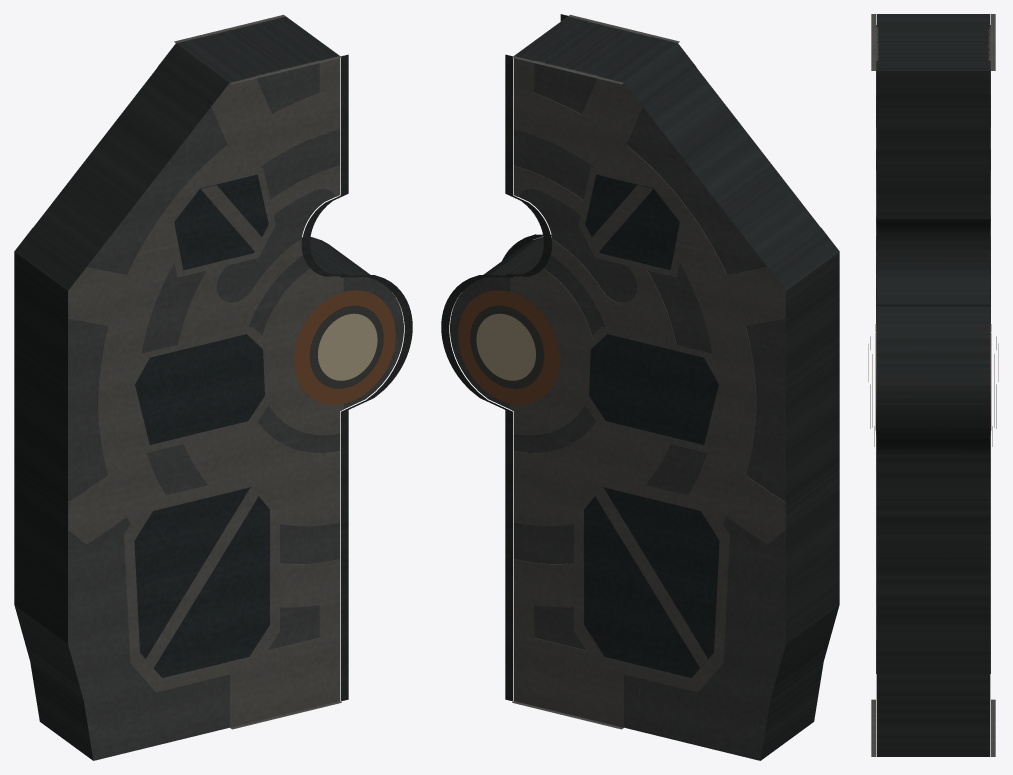
Rendered from destiny_ship_airlock_left.obj.
3 views of the same model, side by side, from view 1: azimuth 30°, elevation 25°; view 2: azimuth 150°, elevation 25°; view 3: azimuth 270°, elevation 25° (orthographic). The views are drawn at different scales.
Parts seen in each view (by area): view 1: Original_hatch_left, Destiny_console_center_lock_emblem; view 2: Original_hatch_left, Destiny_console_center_lock_emblem; view 3: Original_hatch_left, Destiny_console_center_lock_emblem.
Part boxes in pixels (left/top/right/bottom): Original_hatch_left: left=14, top=14, right=412, bottom=760; Destiny_console_center_lock_emblem: left=294, top=290, right=395, bottom=404; Original_hatch_left: left=441, top=14, right=839, bottom=760; Destiny_console_center_lock_emblem: left=458, top=290, right=559, bottom=404; Original_hatch_left: left=871, top=14, right=995, bottom=756; Destiny_console_center_lock_emblem: left=868, top=324, right=998, bottom=446.
Size of the model in its own units: 1.61 by 2.88 by 0.4974.
